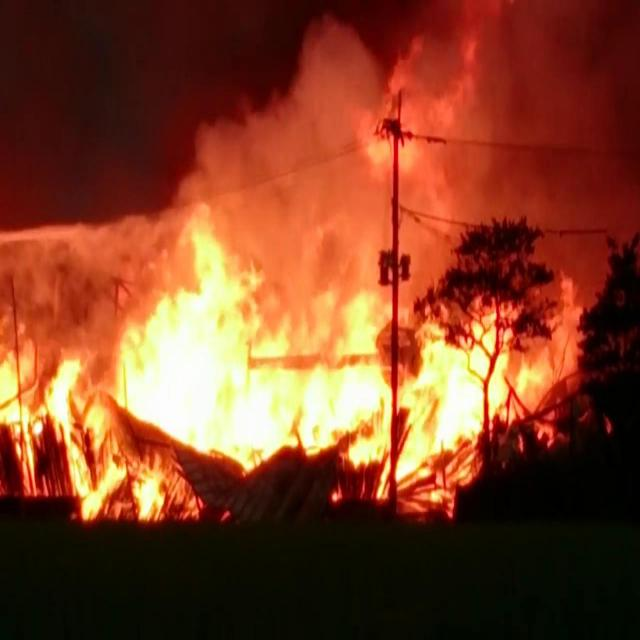fire: (0, 166, 585, 522)
